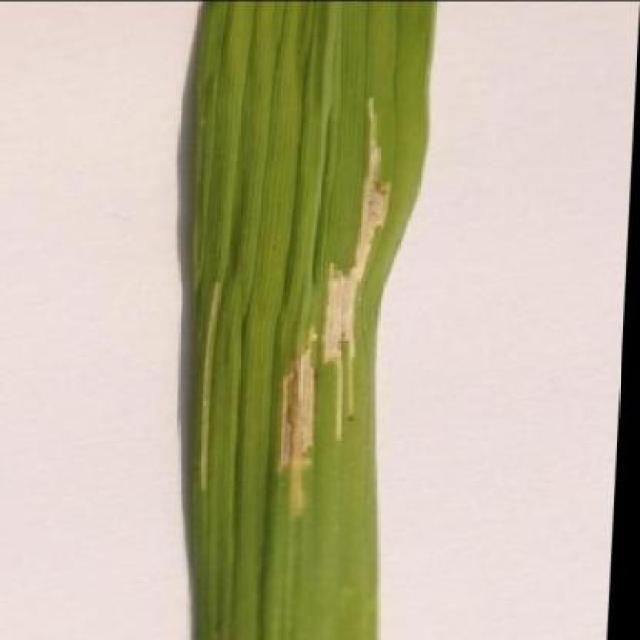Brown_Spot: (258, 79, 393, 522), (182, 269, 238, 496)
